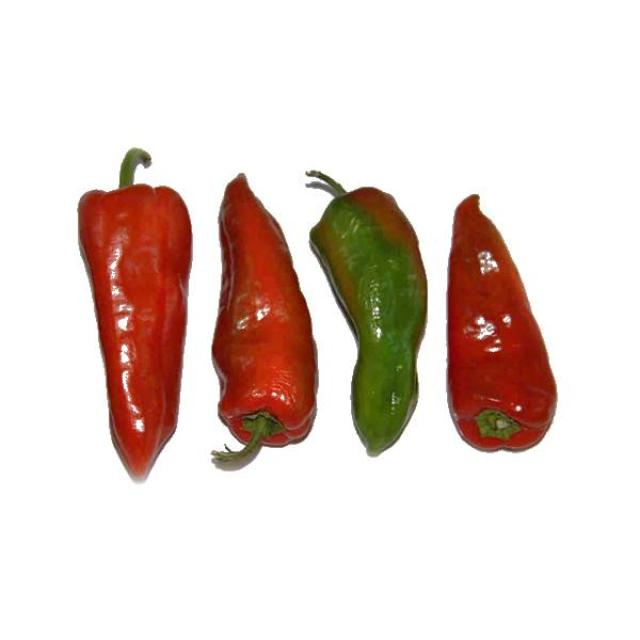organic: (311, 192, 429, 461), (81, 185, 188, 480), (211, 174, 317, 470), (447, 187, 561, 460)
